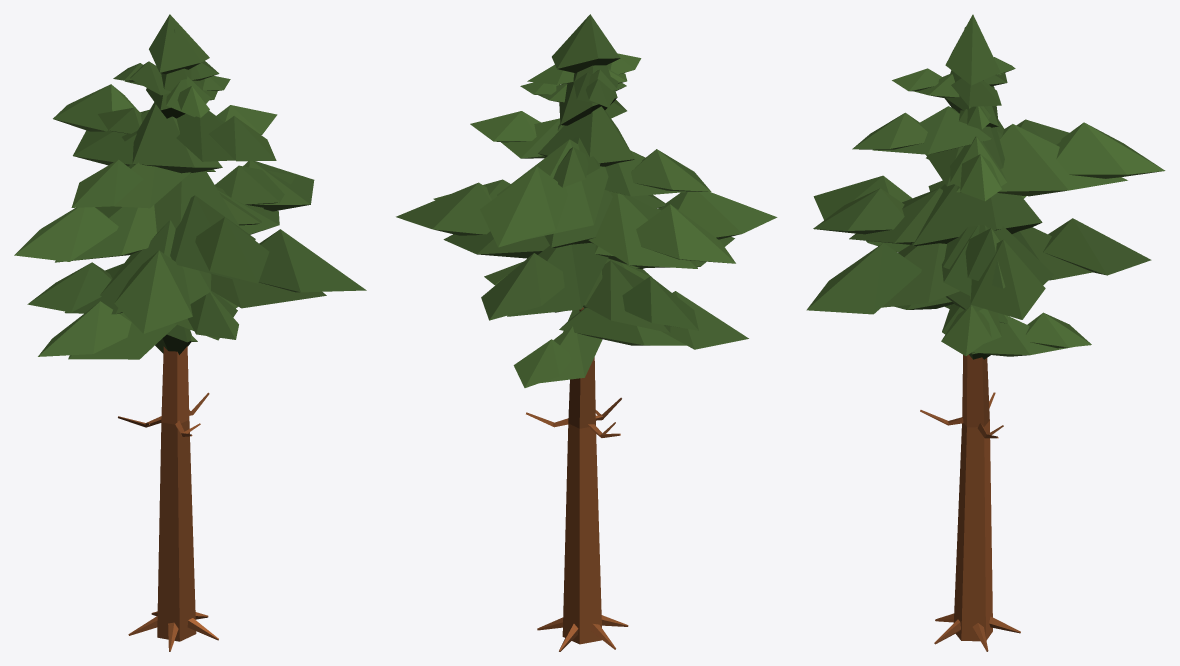
Rendered from pine-01-far.glb.
3 views of the same model, side by side, from view 1: azimuth 30°, elevation 25°; view 2: azimuth 150°, elevation 25°; view 3: azimuth 270°, elevation 25° (orthographic).
Visible parts, largest first — view 1: pine-01-far; view 2: pine-01-far; view 3: pine-01-far.
Part boxes in pixels (box(x1,y1,x2,y2)): pine-01-far: box(14, 14, 366, 651); pine-01-far: box(396, 14, 777, 651); pine-01-far: box(806, 14, 1165, 651).
Bounding box in the file's own units: 6.47 × 12 × 6.33.
